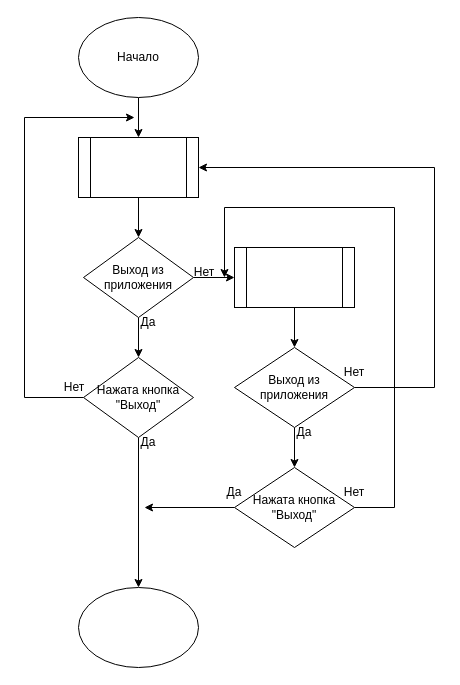
The diagram is 460 pixels wide and 685 high, and some of its shapes have lost their labels. Each missing label, with the centre of its shape:
Выход: [138,627]
Сцена "Ангар": [294,277]
Сцена "Музей": [138,167]
